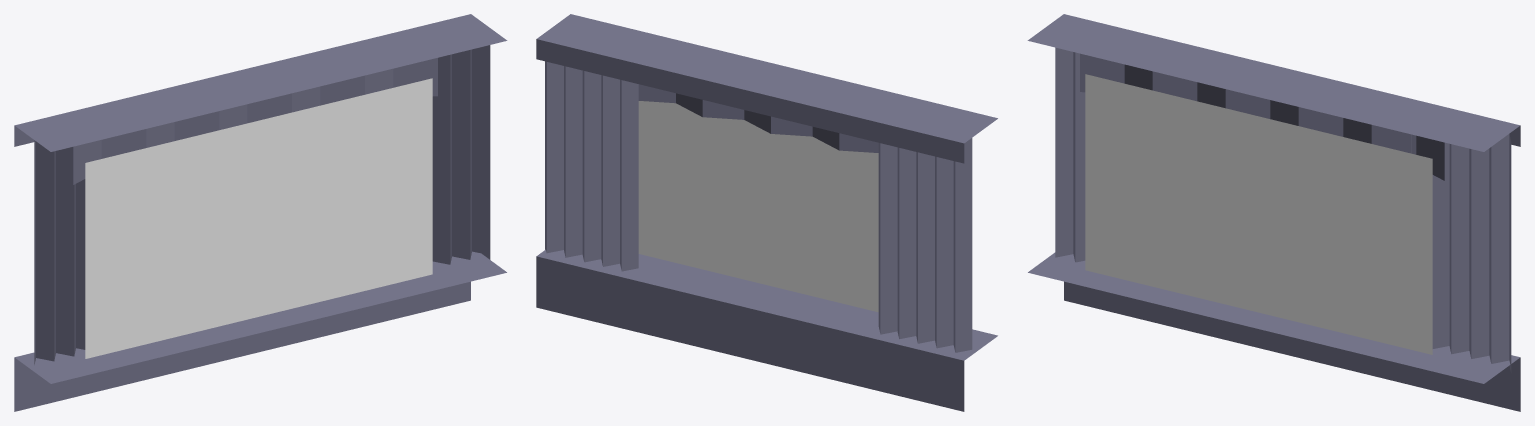
The model's file is Leinwand_1975.glb.
The picture shows the model from 3 angles, left to right: view 1: azimuth 30°, elevation 25°; view 2: azimuth 150°, elevation 25°; view 3: azimuth 330°, elevation 25°; orthographic projection. The views are drawn at different scales.
Visible parts, largest first — view 1: pPlaneShape37, pCylinderShape211, pCylinderShape212, pPlaneShape40, pPlaneShape39, pPlaneShape38; view 2: pPlaneShape37, pCylinderShape211, pCylinderShape212, pPlaneShape39, pPlaneShape40, pPlaneShape38; view 3: pPlaneShape37, pCylinderShape211, pCylinderShape212, pPlaneShape40, pPlaneShape38, pPlaneShape39.
Part boxes in pixels (x1,y1,x2,y2): pPlaneShape37: (85,78,432,358); pCylinderShape211: (14,251,506,411); pCylinderShape212: (14,14,507,151); pPlaneShape40: (432,45,490,264); pPlaneShape39: (34,140,85,364); pPlaneShape38: (73,58,437,184); pPlaneShape37: (638,101,878,312); pCylinderShape211: (536,249,997,411); pCylinderShape212: (536,14,997,163); pPlaneShape39: (878,138,972,352); pPlaneShape40: (545,61,638,271); pPlaneShape38: (638,84,878,152); pPlaneShape37: (1085,74,1432,354); pCylinderShape211: (1028,252,1520,411); pCylinderShape212: (1027,14,1520,151); pPlaneShape40: (1411,134,1511,372); pPlaneShape38: (1080,53,1444,180); pPlaneShape39: (1055,47,1085,262).
Bounding box in the file's own units: 1.94 × 1.15 × 0.2664.
